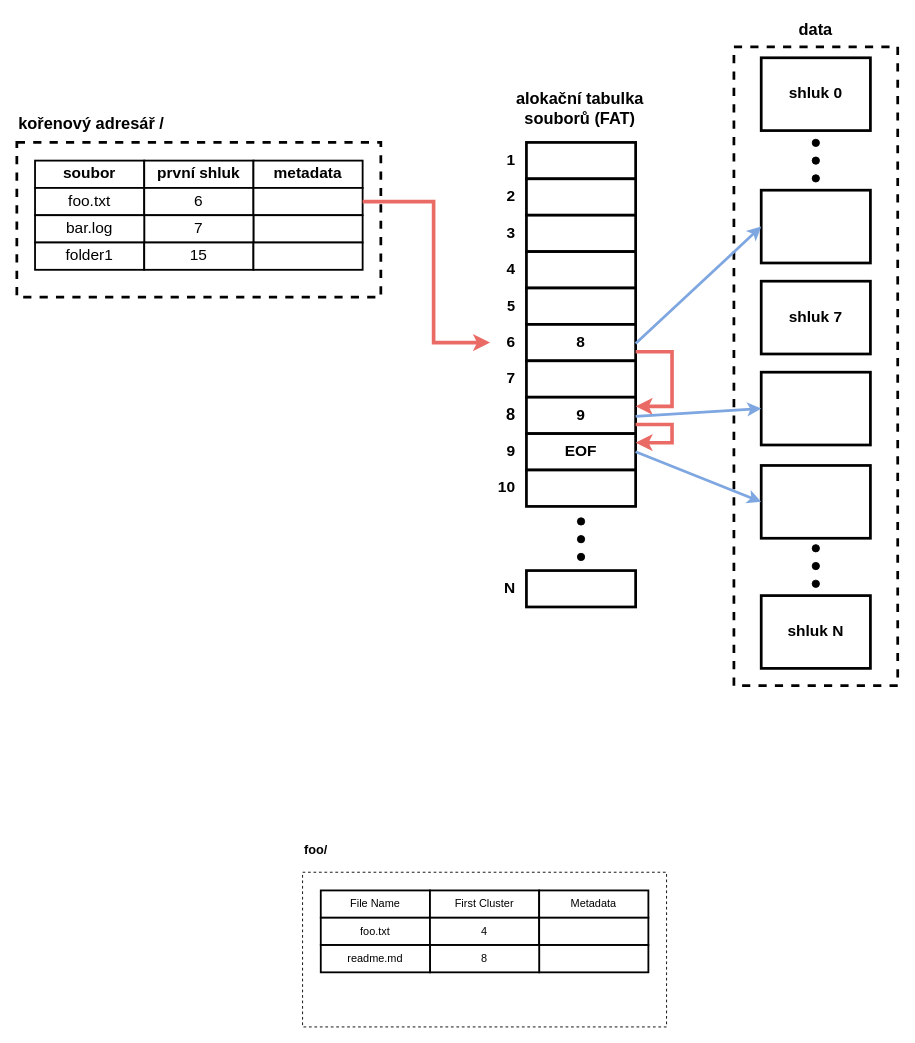
Some shapes in this 915 by 1043 pixel diagram are drawn without their labels. Here are the shapes that lost their labels. From the top down, the centre of each, then its label:
At (815,226): "shluk 6".
At (815,408): "shluk 8".
At (815,501): "shluk 9".
